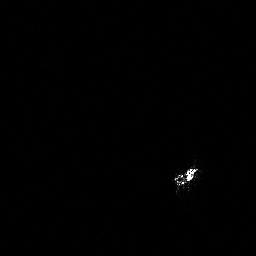ship: (171, 166, 200, 190)
